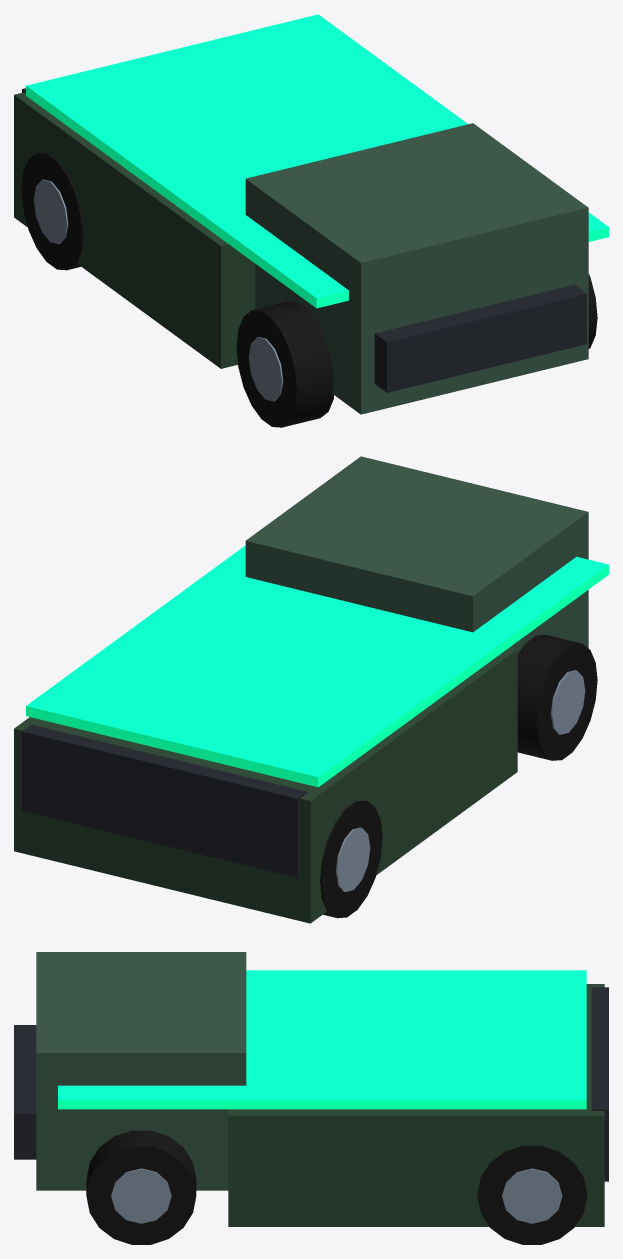
Rendered from tc_haul.glb.
The picture shows the model from 3 angles, top to bottom: view 1: azimuth 30°, elevation 25°; view 2: azimuth 150°, elevation 25°; view 3: azimuth 270°, elevation 25°; orthographic projection. The views are drawn at different scales.
Visible parts, largest first — view 1: TC Hauler; view 2: TC Hauler; view 3: TC Hauler.
Boxes of the visible parts, x1,y1,x2,y2 form: TC Hauler: (14, 14, 608, 427); TC Hauler: (14, 456, 608, 923); TC Hauler: (14, 952, 608, 1244).
Size of the model in its own units: 2.2 by 1.34 by 4.11.
